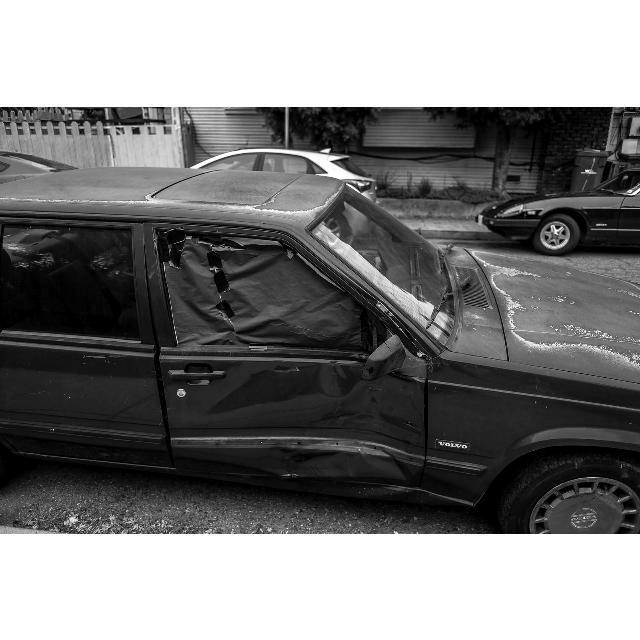bonnet-dent: (475, 248, 640, 389)
doorouter-dent: (163, 356, 426, 502)
fender-dent: (430, 372, 525, 508)
